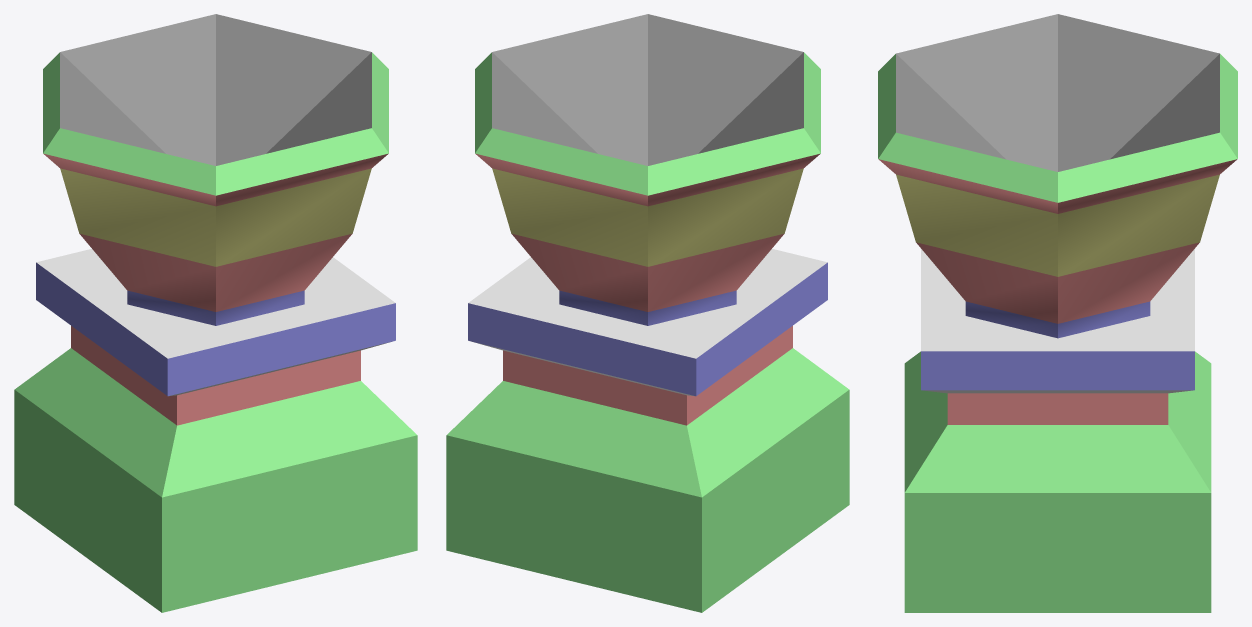
The model's file is hed_enterance04.gltf.
The picture shows the model from 3 angles, left to right: view 1: azimuth 30°, elevation 25°; view 2: azimuth 150°, elevation 25°; view 3: azimuth 270°, elevation 25°; orthographic projection. The views are drawn at different scales.
Parts seen in each view (by area): view 1: hed_enterance04; view 2: hed_enterance04; view 3: hed_enterance04.
Boxes of the visible parts, x1=… form: hed_enterance04: x1=14, y1=14, x2=417, y2=612; hed_enterance04: x1=446, y1=14, x2=849, y2=612; hed_enterance04: x1=878, y1=14, x2=1237, y2=612.
Bounding box in the file's own units: 0.6772 × 0.8186 × 0.5865.
